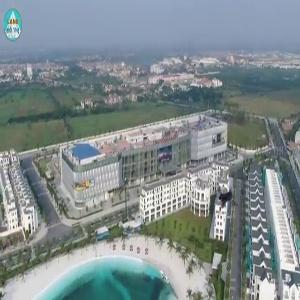drone: (204, 182, 244, 222)
